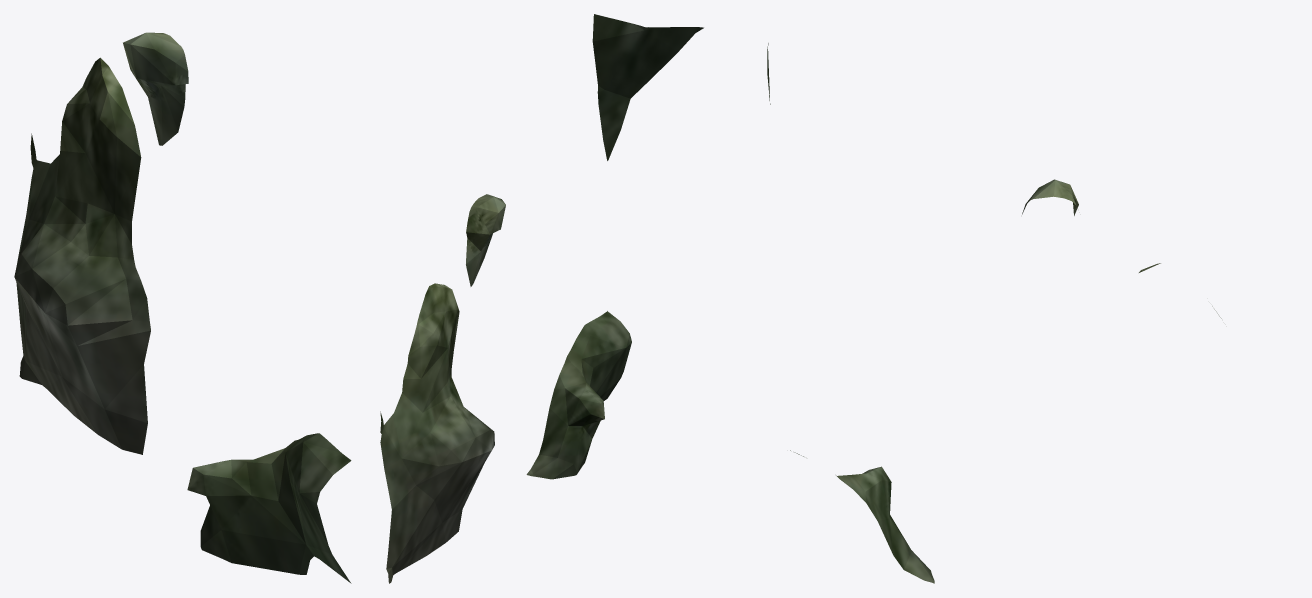
3 renders of one model, left to right at view 1: azimuth 30°, elevation 25°; view 2: azimuth 150°, elevation 25°; view 3: azimuth 270°, elevation 25°, orthographic. The views are drawn at different scales.
Bounding box in the file's own units: 0.7278 × 2.95 × 2.95.
Materials: 1 (1 with a texture image).
